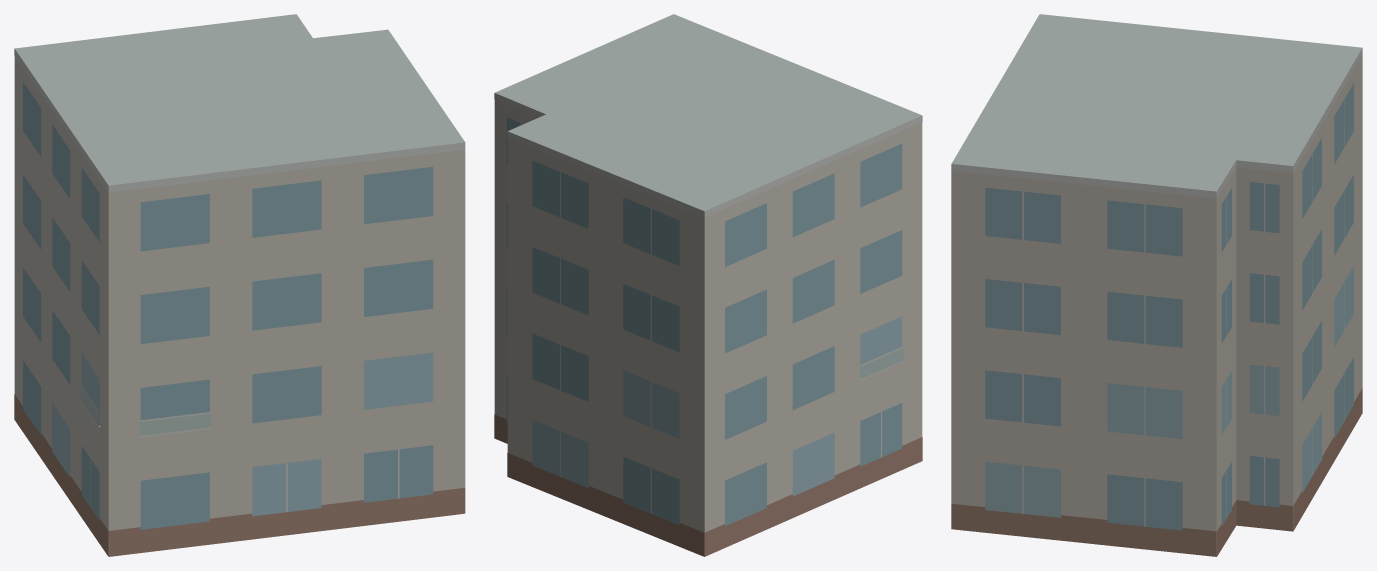
The model's file is survey-upis-32721678.glb.
3 renders of one model, left to right at view 1: azimuth 30°, elevation 25°; view 2: azimuth 150°, elevation 25°; view 3: azimuth 270°, elevation 25°, orthographic. The views are drawn at different scales.
Visible parts, largest first — view 1: survey-upis-32721678.tmp; view 2: survey-upis-32721678.tmp; view 3: survey-upis-32721678.tmp.
Boxes of the visible parts, x1,y1,x2,y2 form: survey-upis-32721678.tmp: (14,14,465,556); survey-upis-32721678.tmp: (494,14,922,556); survey-upis-32721678.tmp: (951,14,1362,556).
Size of the model in its own units: 13.24 by 12.7 by 12.96.
